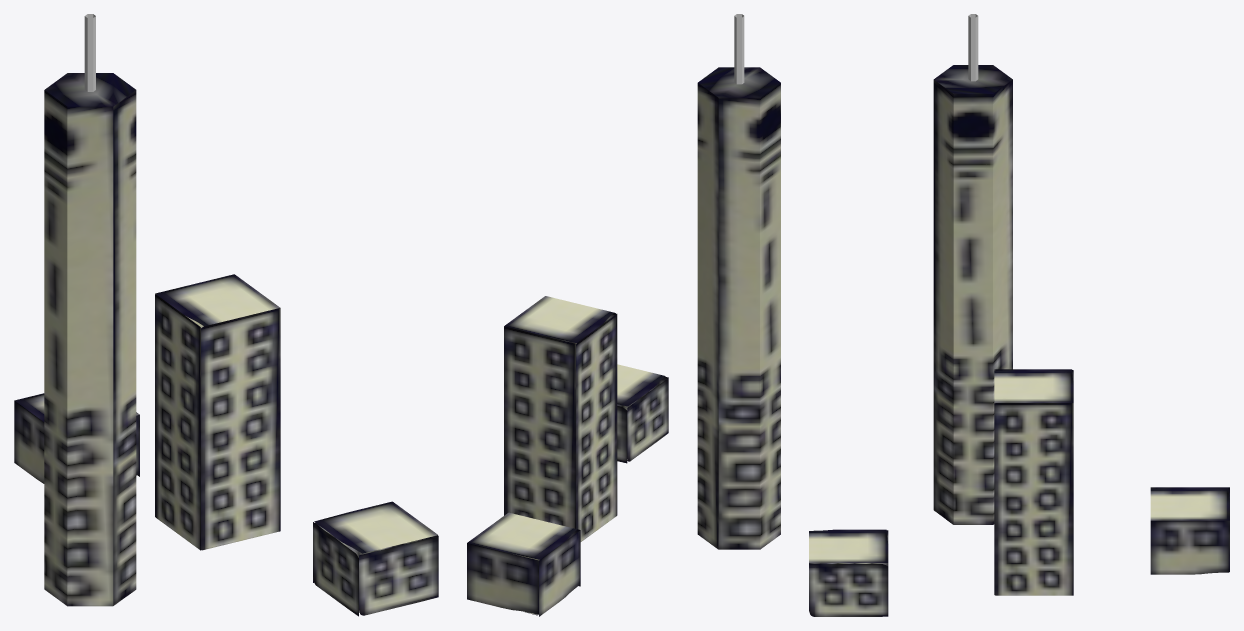
Rendered from artfarm2.dae.
3 renders of one model, left to right at view 1: azimuth 30°, elevation 25°; view 2: azimuth 150°, elevation 25°; view 3: azimuth 270°, elevation 25°, orthographic. The views are drawn at different scales.
Parts seen in each view (by area): view 1: Circle, Plane.002, Plane, Plane.001, Circle.001; view 2: Circle, Plane.002, Plane.001, Plane, Circle.001; view 3: Circle, Plane.002, Plane, Plane.001, Circle.001.
Part boxes in pixels (x1,y1,x2,y2): Circle: (44,73,136,606); Plane.002: (155,274,280,550); Plane: (313,501,438,616); Plane.001: (14,393,139,483); Circle.001: (84,14,95,91); Circle: (697,67,780,549); Plane.002: (504,296,617,541); Plane.001: (467,512,580,616); Plane: (617,364,668,463); Circle.001: (734,14,744,84); Circle: (933,65,1012,524); Plane.002: (994,369,1073,595); Plane: (809,529,888,616); Plane.001: (1150,487,1229,574); Circle.001: (968,14,978,81).
Size of the model in its own units: 7.22 by 10.62 by 13.77.
Materials: 1 (1 with a texture image).
